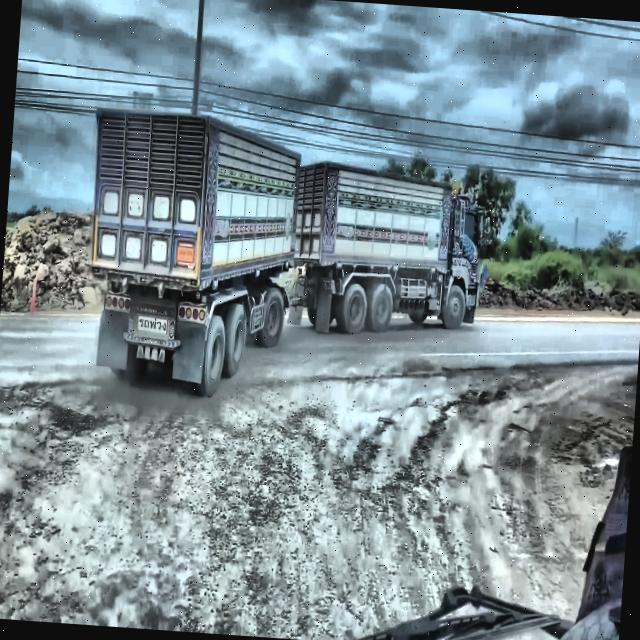trailer: (76, 103, 493, 417)
